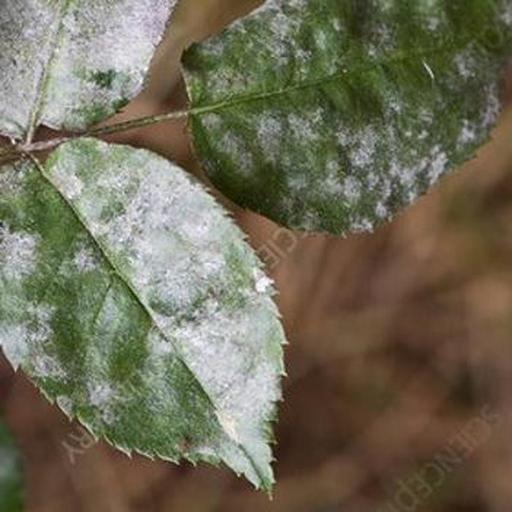powdery_mildew: (0, 138, 285, 492), (184, 0, 512, 234), (0, 0, 176, 138)
